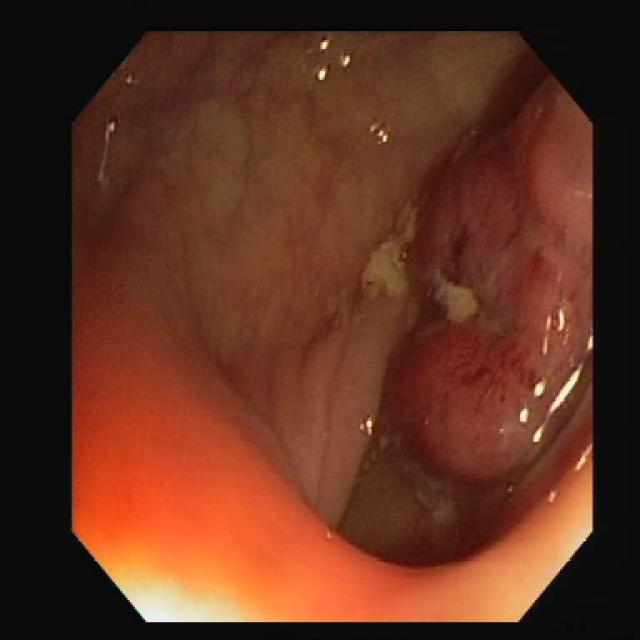tumor: (387, 78, 590, 516)
